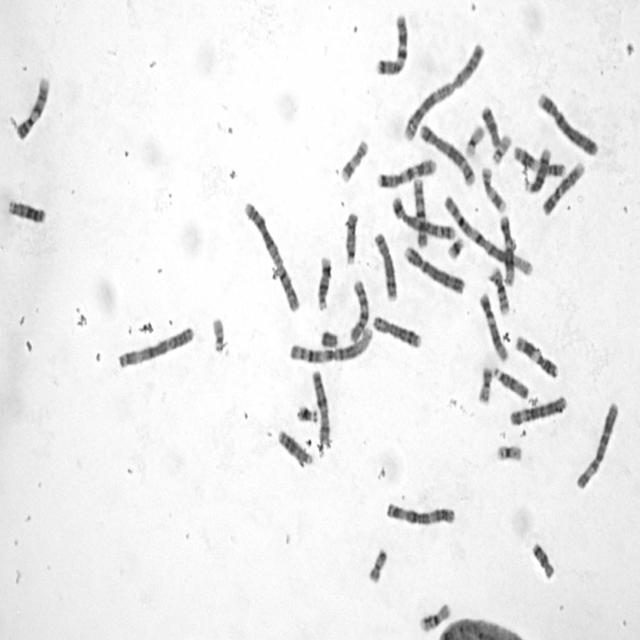A1: (441, 191, 536, 278), (287, 323, 375, 366)
A2: (401, 38, 486, 144), (241, 198, 302, 314)
A3: (116, 321, 196, 370), (384, 498, 457, 527)
B4: (535, 88, 600, 158), (402, 241, 466, 295)
B5: (418, 120, 476, 188), (390, 190, 457, 241)
C10: (346, 276, 371, 343), (411, 174, 428, 248)
C11: (512, 332, 560, 381), (510, 141, 567, 178)
C12: (476, 288, 509, 362), (497, 211, 515, 287)
C6: (574, 397, 620, 491), (507, 391, 568, 427)
C7: (373, 8, 411, 77), (375, 155, 437, 190)
C8: (371, 228, 399, 302), (369, 311, 423, 349)
C9: (540, 158, 586, 217), (14, 73, 51, 141)
D13: (276, 426, 314, 467), (5, 195, 47, 224)
D14: (525, 144, 552, 195), (315, 252, 333, 312)
D15: (490, 362, 530, 400), (343, 212, 360, 266)
E16: (417, 598, 453, 633), (487, 265, 510, 317)
E17: (338, 136, 370, 184), (479, 162, 508, 214)
E18: (529, 538, 556, 580), (479, 101, 502, 148)
F19: (462, 121, 486, 159), (494, 440, 524, 463)
F20: (366, 544, 388, 585), (475, 361, 494, 405)
G21: (294, 400, 320, 425), (445, 232, 466, 262)
G22: (490, 130, 512, 165), (209, 312, 227, 354)
X: (309, 366, 332, 448)
Y: (318, 327, 339, 349)
